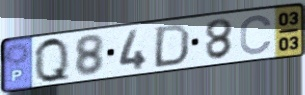4: (117, 27, 149, 72)
8: (73, 32, 107, 78), (203, 17, 235, 61)
C: (238, 13, 275, 56)
D: (151, 22, 193, 70)
Q: (32, 35, 73, 85)
